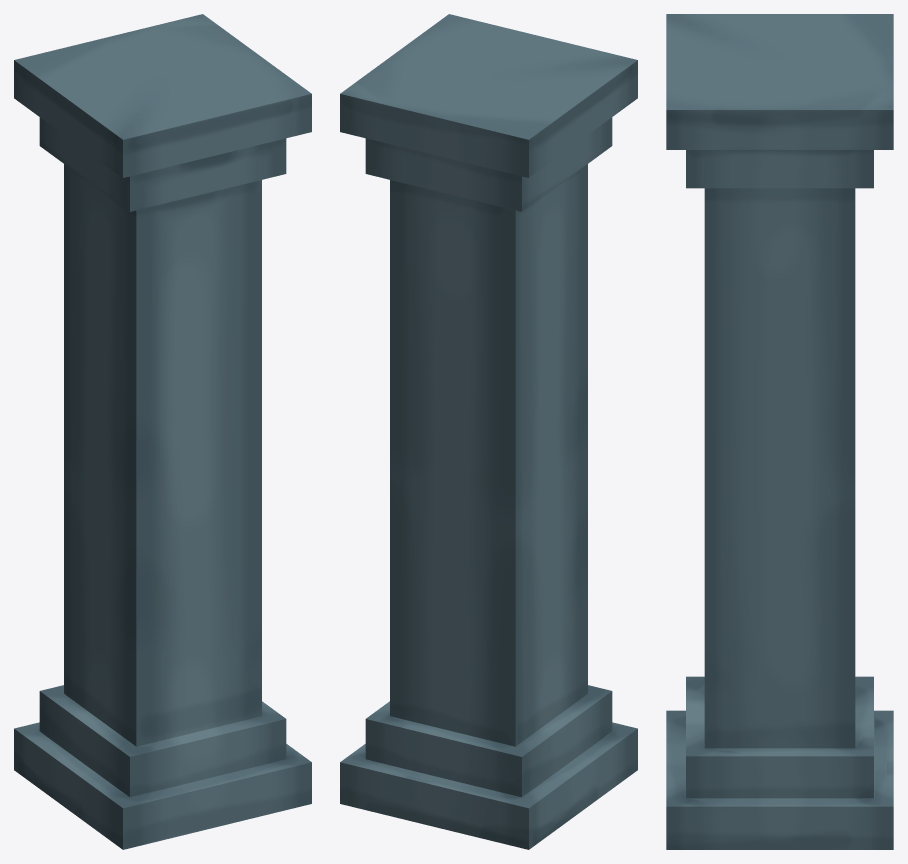
File: pillar.gltf
3 renders of one model, left to right at view 1: azimuth 30°, elevation 25°; view 2: azimuth 150°, elevation 25°; view 3: azimuth 270°, elevation 25°, orthographic. The views are drawn at different scales.
Visible parts, largest first — view 1: Pillar; view 2: Pillar; view 3: Pillar.
Boxes of the visible parts, box(x1,y1,x2,y2) form: Pillar: box(14, 14, 311, 849); Pillar: box(340, 14, 637, 849); Pillar: box(666, 14, 893, 849).
Size of the model in its own units: 0.9208 by 3.31 by 0.9208.
Materials: 1 (1 with a texture image).
